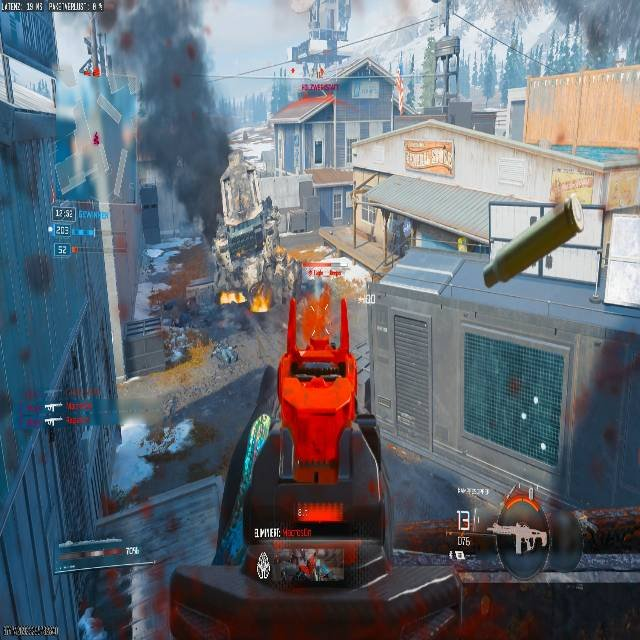head: (261, 193, 275, 213), (263, 195, 272, 208)
player: (261, 197, 281, 258)
